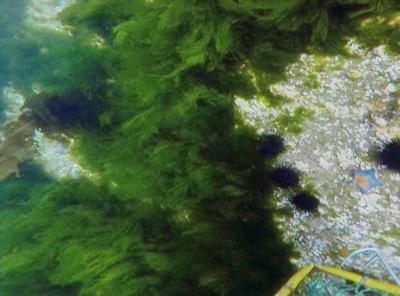urchin: (373, 130, 400, 174), (269, 162, 304, 191), (255, 132, 288, 159), (287, 187, 322, 212)
